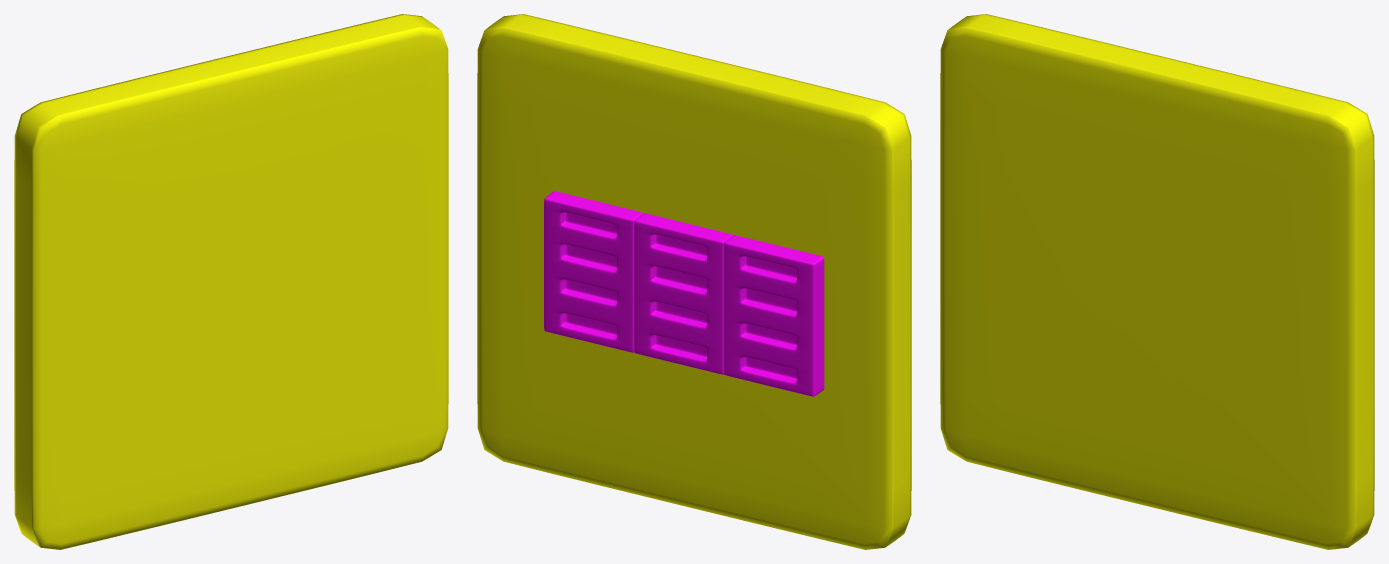
3 views of the same model, side by side, from view 1: azimuth 30°, elevation 25°; view 2: azimuth 150°, elevation 25°; view 3: azimuth 330°, elevation 25° (orthographic).
Visible parts, largest first — view 1: polySurface991; view 2: polySurface991; view 3: polySurface991.
Part boxes in pixels (x1=…): polySurface991: x1=14, y1=14, x2=448, y2=549; polySurface991: x1=477, y1=14, x2=911, y2=549; polySurface991: x1=940, y1=14, x2=1374, y2=549.
Size of the model in its own units: 0.9994 by 0.9994 by 0.1407.
